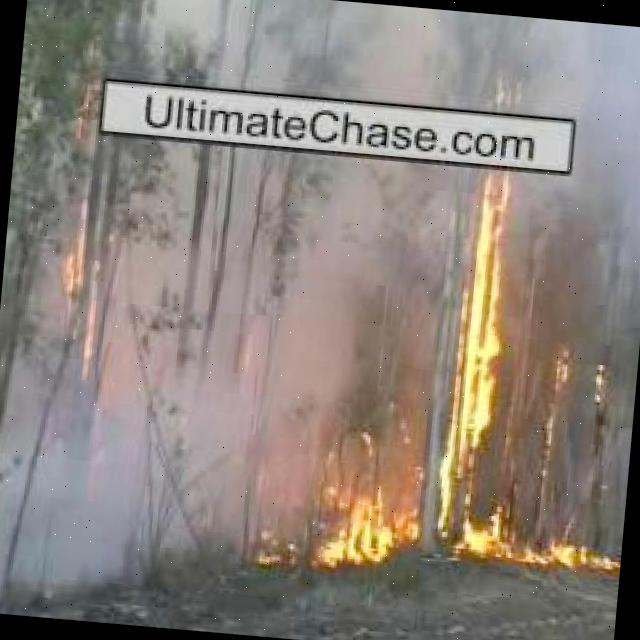fire: (311, 467, 621, 582), (442, 132, 516, 448), (54, 194, 112, 319), (538, 334, 576, 459), (591, 353, 612, 418)
